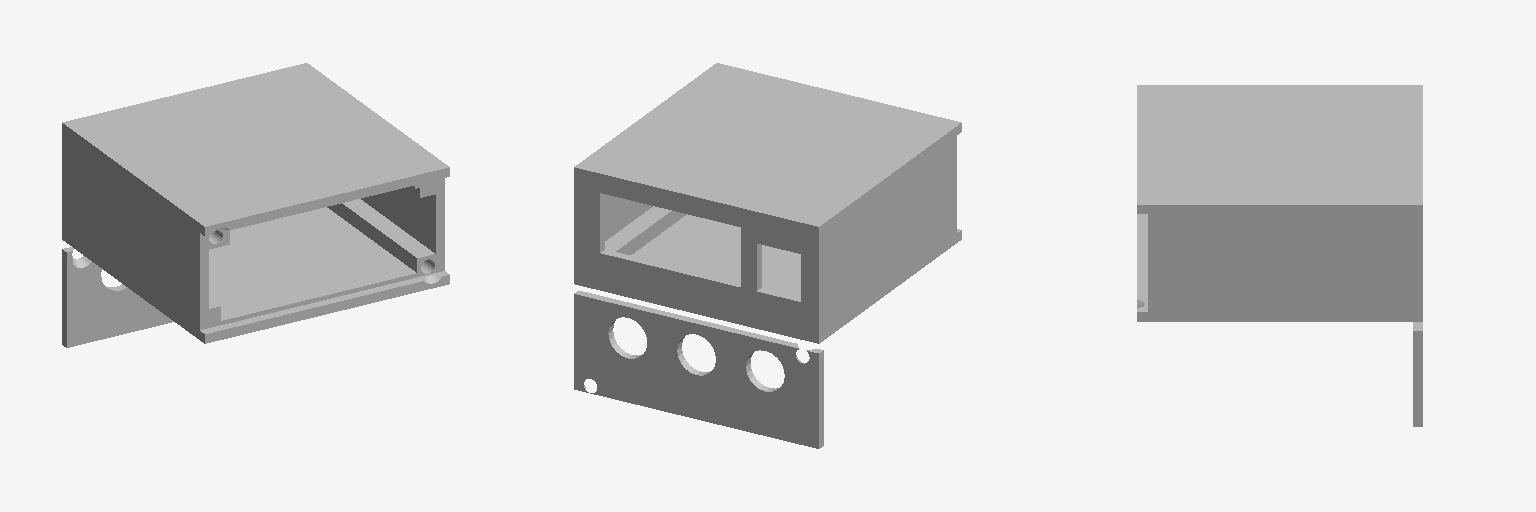
The model's file is enclosure.obj.
3 views of the same model, side by side, from view 1: azimuth 30°, elevation 25°; view 2: azimuth 150°, elevation 25°; view 3: azimuth 270°, elevation 25° (orthographic).
Parts seen in each view (by area): view 1: obj_0; view 2: obj_0; view 3: obj_0.
Boxes of the visible parts, x1=… form: obj_0: x1=62, y1=63, x2=449, y2=347; obj_0: x1=574, y1=63, x2=961, y2=448; obj_0: x1=1137, y1=85, x2=1422, y2=426.
Bounding box in the file's own units: 53.5 × 46.35 × 54.